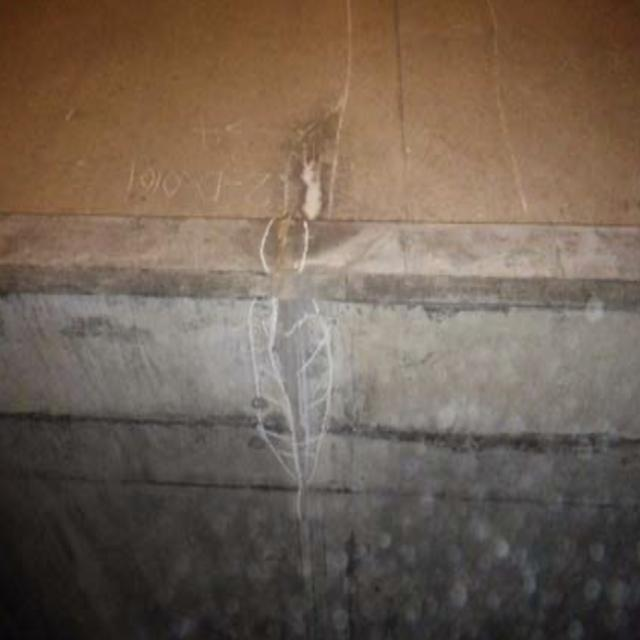freelime: (287, 125, 340, 228)
spalling: (260, 303, 341, 496)
